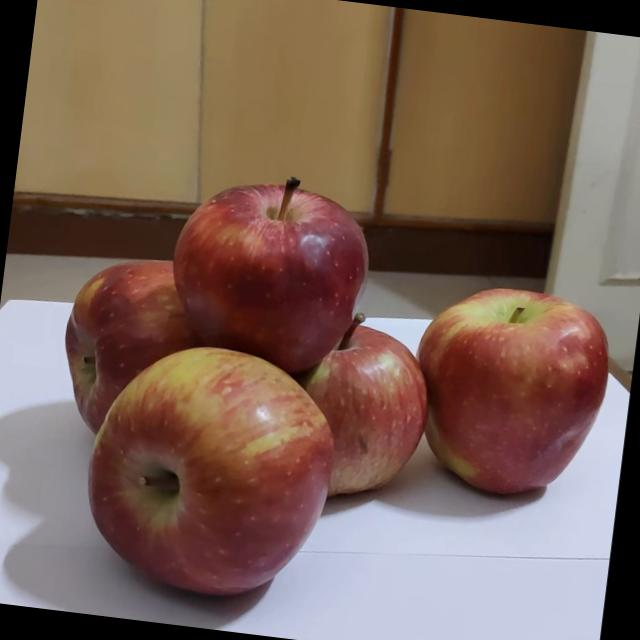apple: (54, 328, 352, 626), (368, 266, 620, 528), (22, 242, 255, 478), (147, 159, 374, 399), (239, 299, 434, 530)
